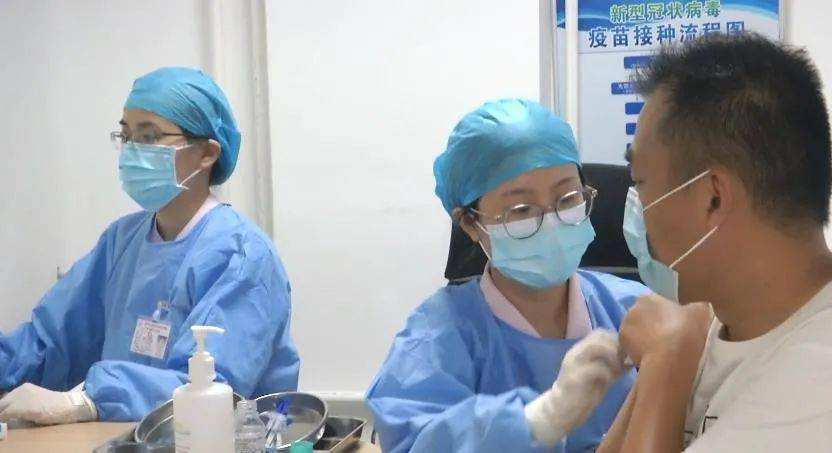mask: (619, 104, 732, 311), (474, 179, 601, 293), (118, 110, 194, 217)
